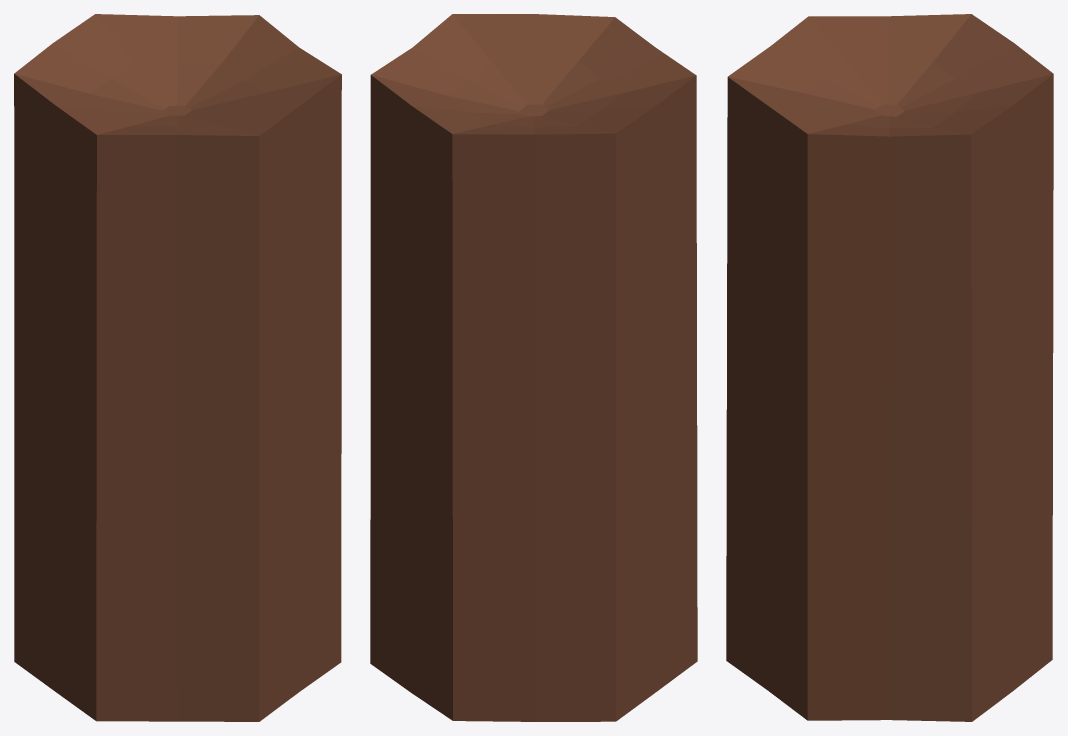
The model's file is towerstump.fbx.
The picture shows the model from 3 angles, left to right: view 1: azimuth 30°, elevation 25°; view 2: azimuth 150°, elevation 25°; view 3: azimuth 270°, elevation 25°; orthographic projection.
Parts seen in each view (by area): view 1: finaltower; view 2: finaltower; view 3: finaltower.
Part boxes in pixels (box(x1,y1,x2,y2)): finaltower: box(14, 14, 341, 721); finaltower: box(370, 14, 697, 721); finaltower: box(726, 14, 1053, 721).
Bounding box in the file's own units: 171 × 391 × 197.
